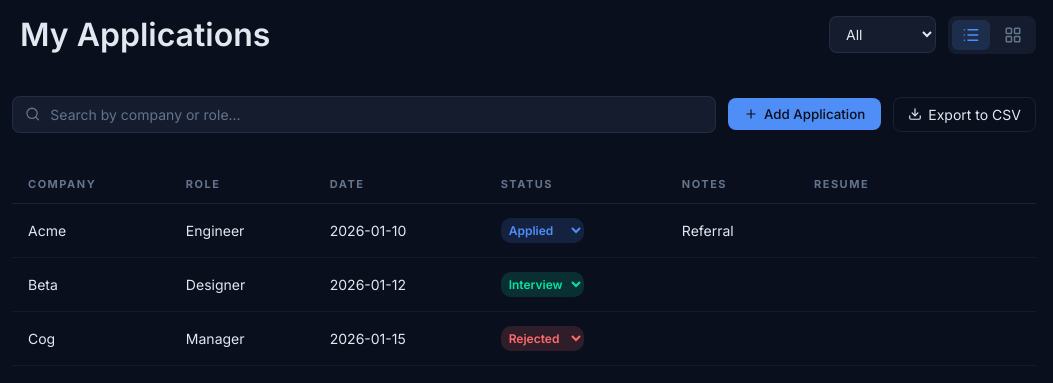
Scenario: Applied — list with data › filters by search query (company)
Step 1. Type "acme" into the field with placeholder "Search by company or role..." → (376, 114), box [48,105,703,124]
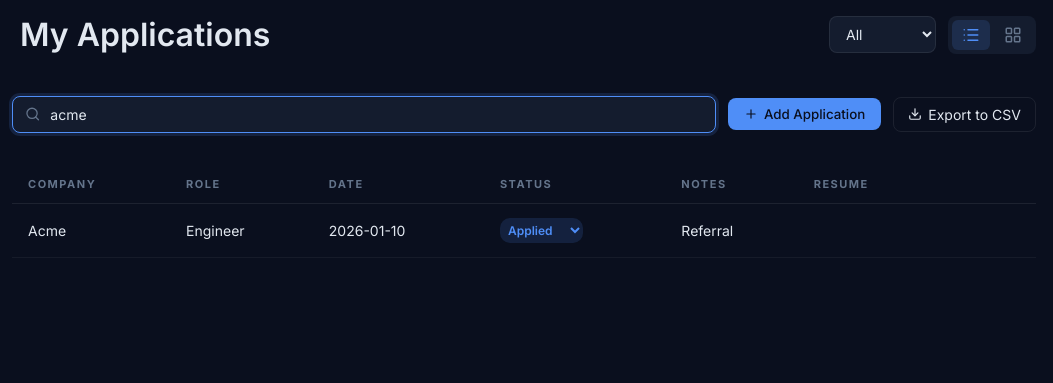
Expected: the text "Acme" is shown, [12,203,170,257]
Expected: the text "Beta" is gone
